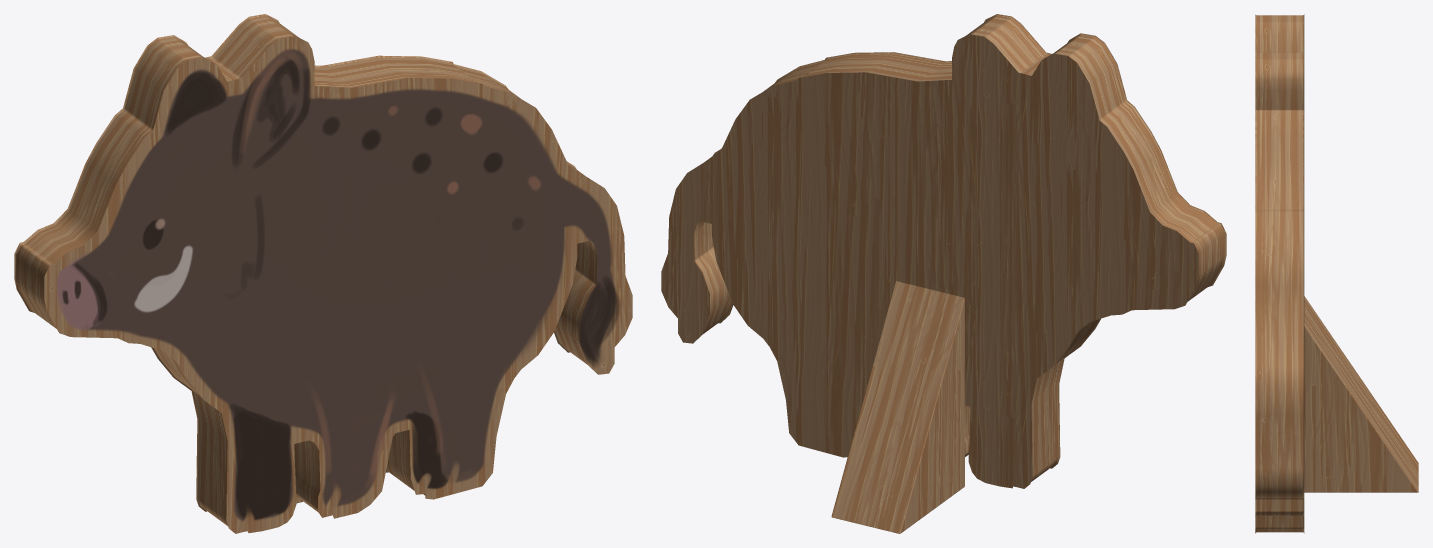
File: boar_frame_1.glb
3 renders of one model, left to right at view 1: azimuth 30°, elevation 25°; view 2: azimuth 150°, elevation 25°; view 3: azimuth 270°, elevation 25°, orthographic. The views are drawn at different scales.
Parts seen in each view (by area): view 1: boar_frame_1_Block; view 2: boar_frame_1_Block, boar_frame_1_RearBrace; view 3: boar_frame_1_Block, boar_frame_1_RearBrace.
Part boxes in pixels (x1,y1,x2,y2): boar_frame_1_Block: (14, 14, 632, 533); boar_frame_1_Block: (661, 14, 1226, 488); boar_frame_1_RearBrace: (831, 281, 964, 533); boar_frame_1_Block: (1255, 14, 1304, 533); boar_frame_1_RearBrace: (1304, 296, 1418, 492).
Size of the model in its own units: 2.25 by 1.82 by 0.6667.
Materials: 1 (1 with a texture image).
